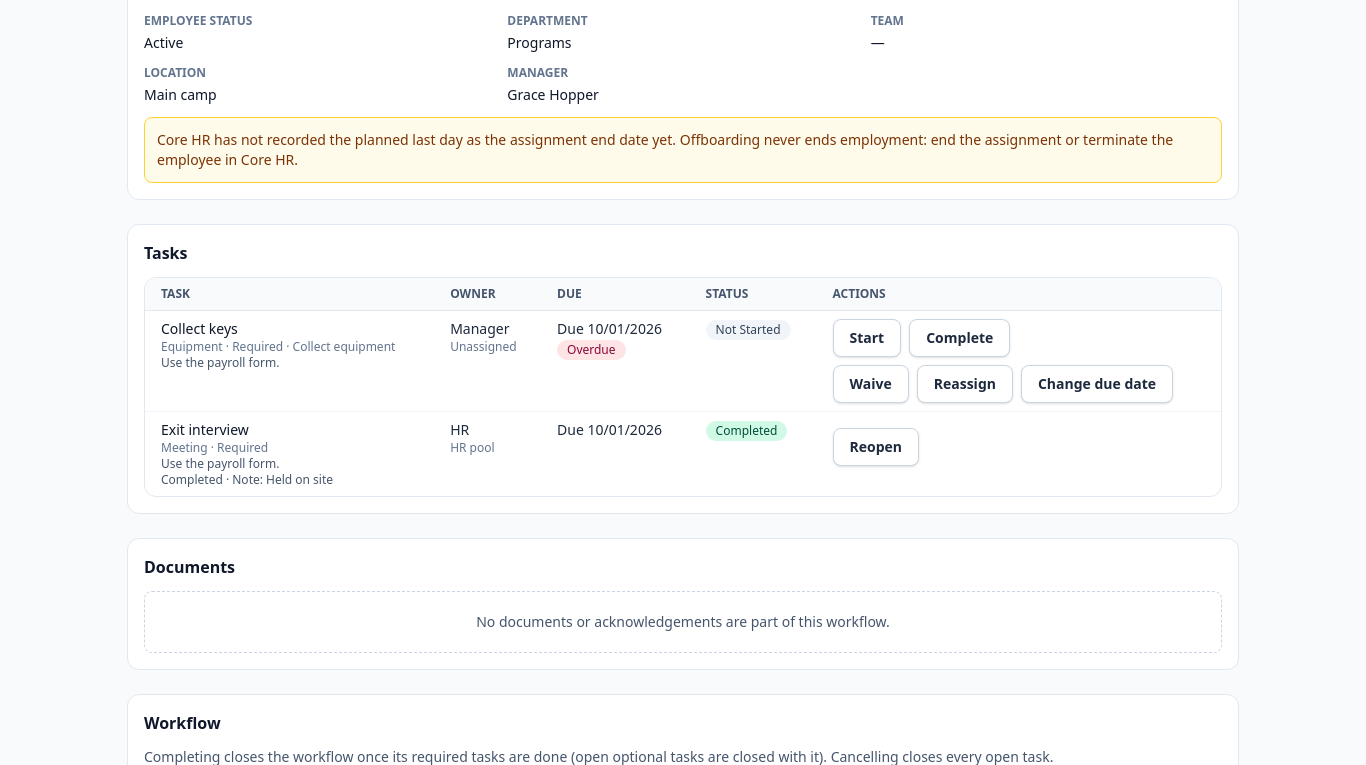
it: WorkflowPage › shows HR the reason, Core HR, events and the actions each task allows
(page scrolled)
Expected: the text "Grace Hopper" is shown, [507, 85, 599, 104]
Expected: the text "Programs" is shown, [507, 33, 572, 52]
Click the button "Waive". click: point(871, 384)
box: [832, 365, 909, 403]
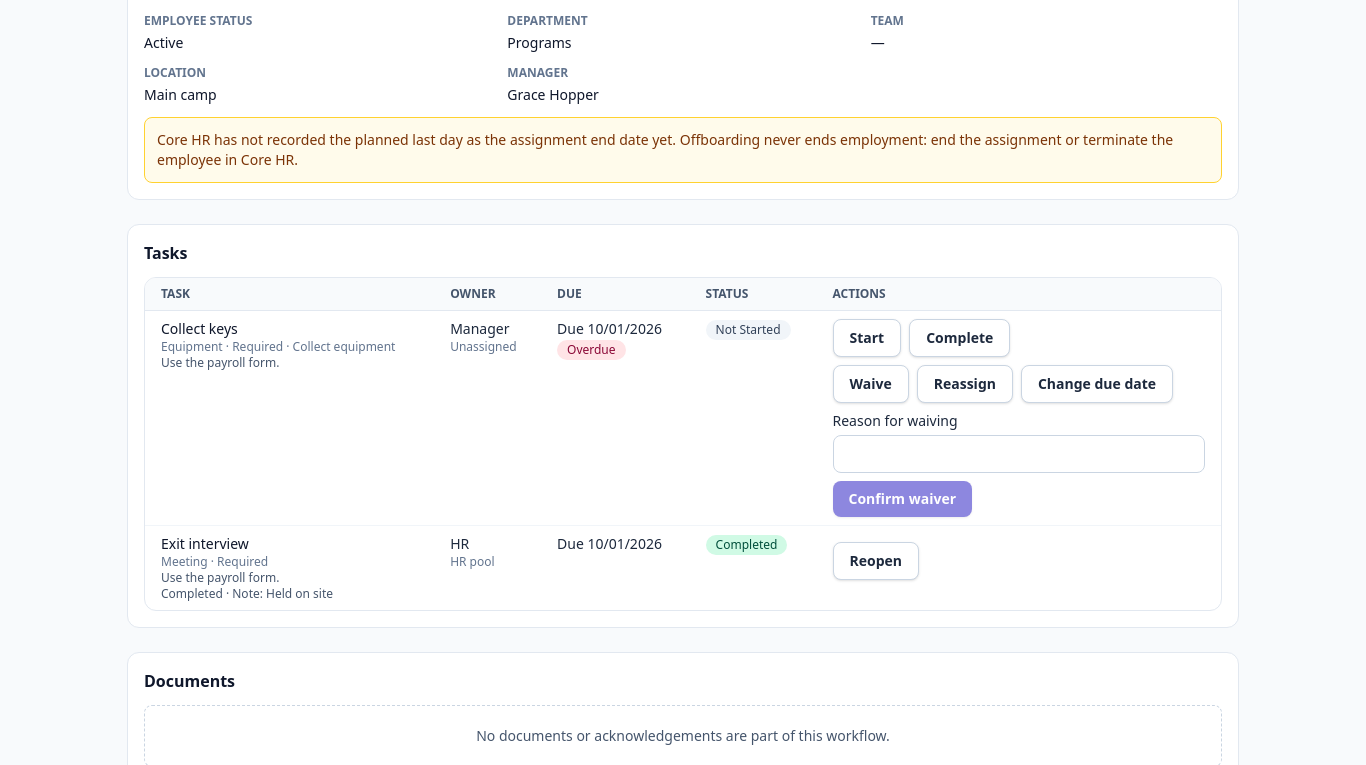
Result: the button "Confirm waiver" is disabled at [832, 481, 972, 517]
Type "Keys were never issued" into the field labelled "Reason for waiving". click: point(1019, 454)
box: [832, 435, 1205, 473]
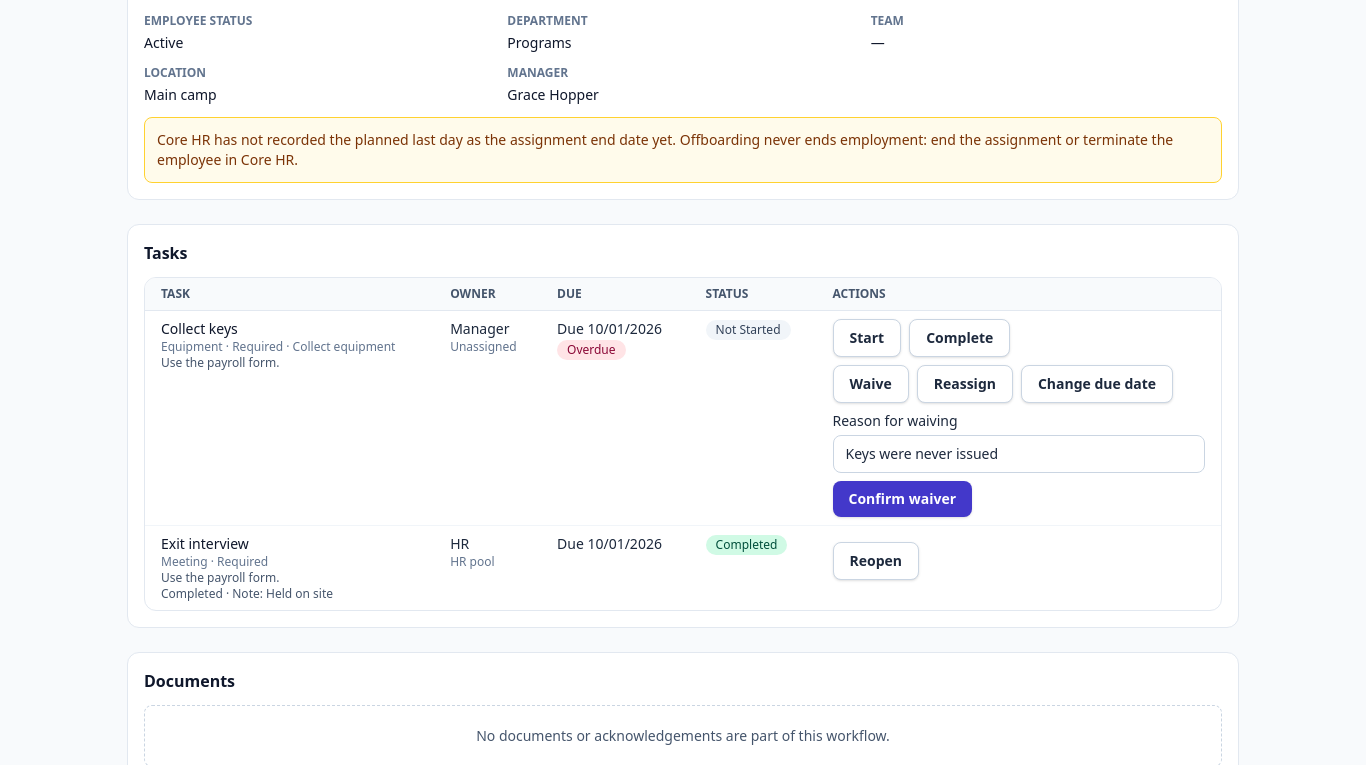
Click the button "Confirm waiver". click: point(902, 499)
box: [832, 481, 972, 517]
(page scrolled)
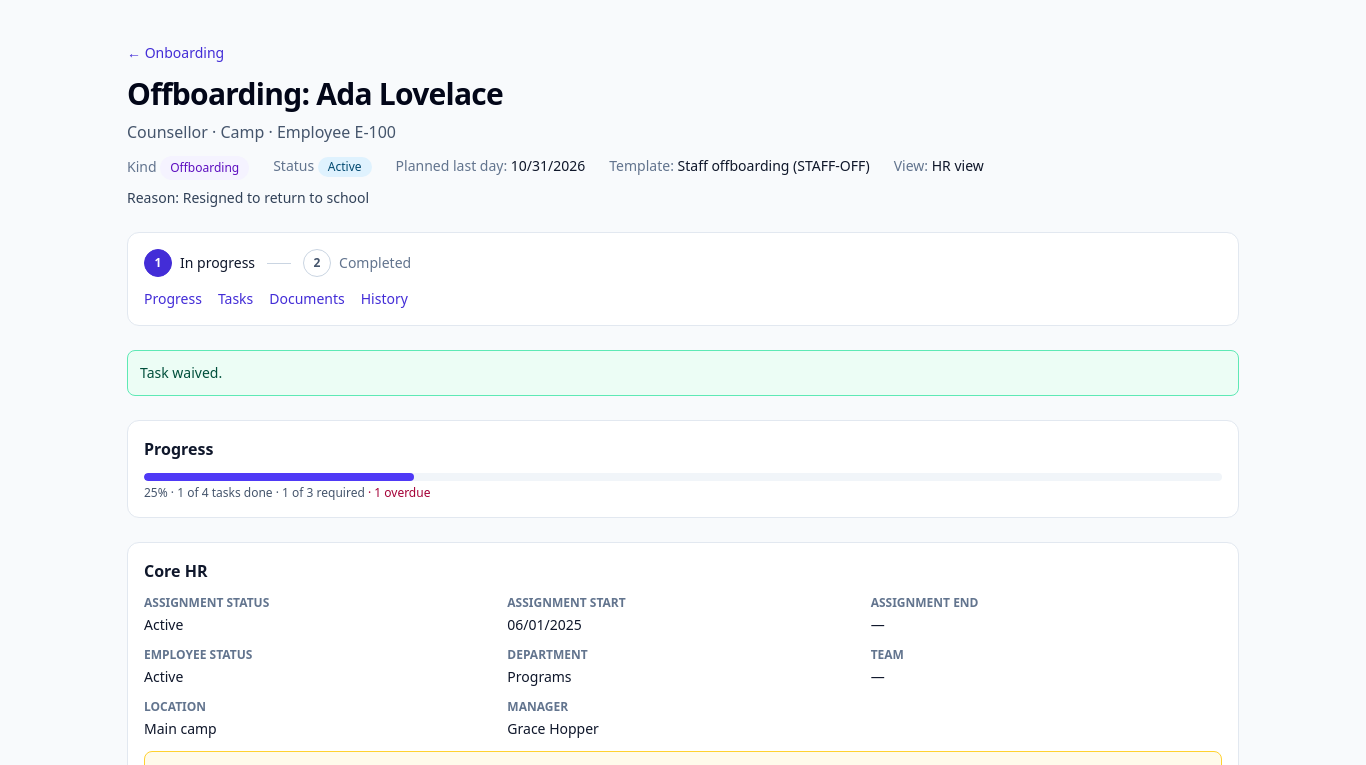
Result: the text "Task waived." is shown at [127, 350, 1239, 396]
